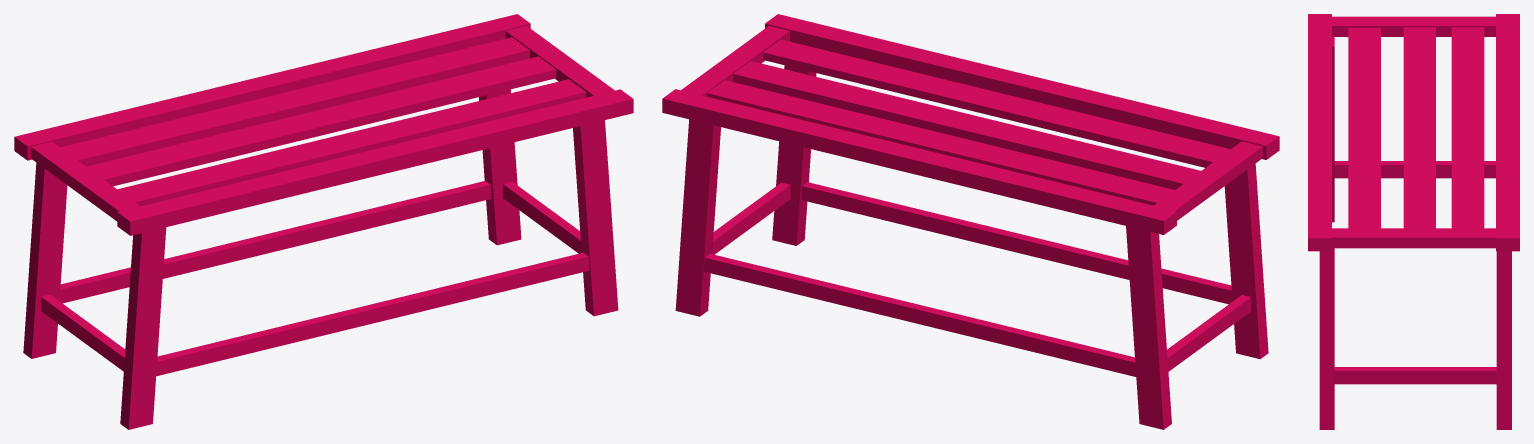
File: Bench_02_Lod0.fbx
The picture shows the model from 3 angles, left to right: view 1: azimuth 30°, elevation 25°; view 2: azimuth 150°, elevation 25°; view 3: azimuth 270°, elevation 25°; orthographic projection. The views are drawn at different scales.
Parts seen in each view (by area): view 1: Bench_02_Lod0; view 2: Bench_02_Lod0; view 3: Bench_02_Lod0.
Part boxes in pixels (left/top/right/bottom): Bench_02_Lod0: left=14, top=14, right=633, bottom=429; Bench_02_Lod0: left=662, top=14, right=1279, bottom=429; Bench_02_Lod0: left=1308, top=14, right=1519, bottom=429.
Size of the model in its own units: 127 by 51.6 by 50.67.
